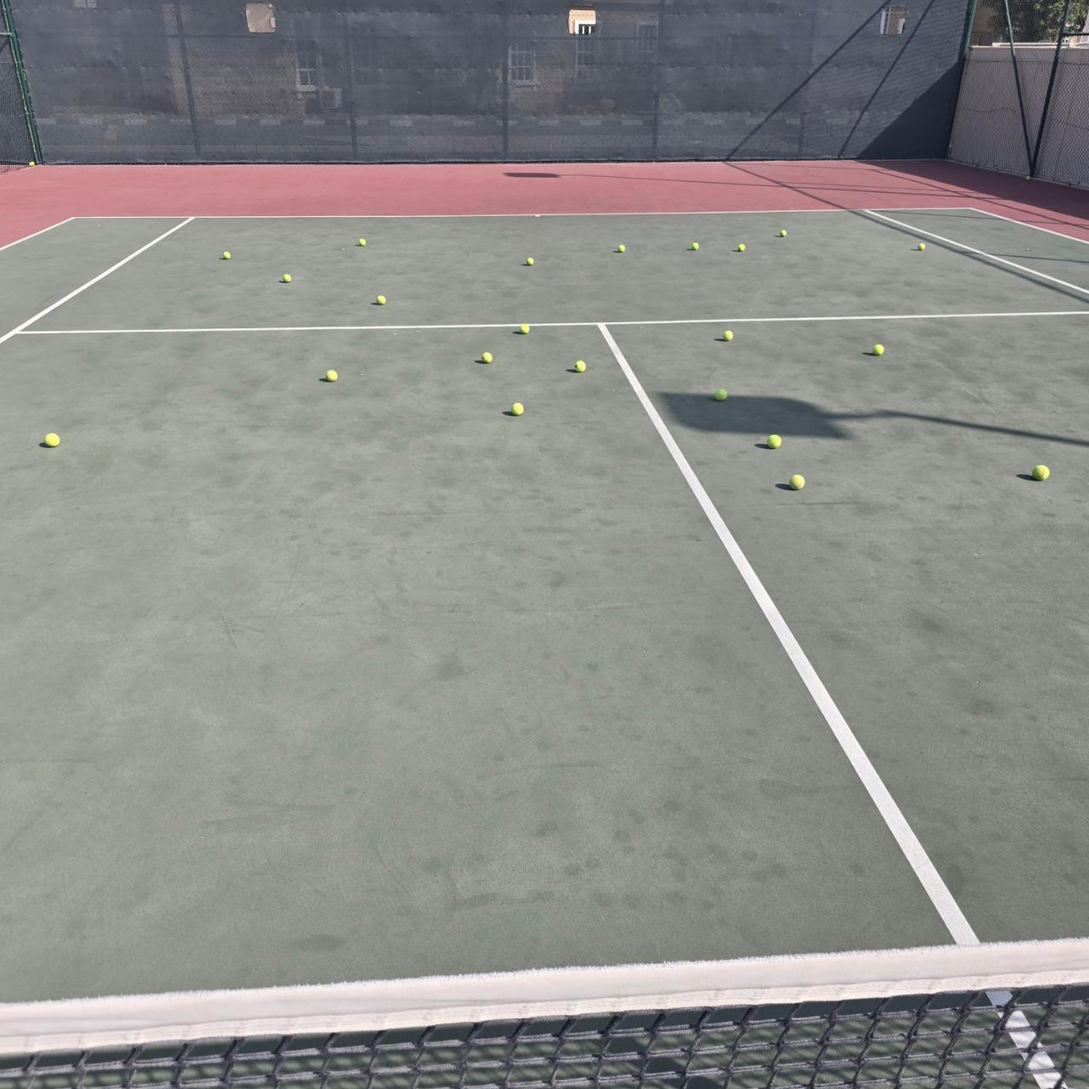tennis-ball: (1031, 462, 1050, 480), (41, 430, 60, 448), (788, 471, 805, 489), (767, 433, 782, 449), (871, 342, 885, 357), (573, 359, 586, 373), (512, 402, 524, 417), (325, 367, 338, 380), (481, 351, 493, 364), (715, 389, 727, 401), (722, 330, 733, 342), (520, 324, 530, 334), (282, 274, 292, 283), (526, 257, 535, 266), (377, 295, 385, 305), (691, 242, 699, 251), (737, 243, 745, 252), (617, 244, 625, 252), (917, 243, 925, 251), (223, 252, 231, 259), (780, 230, 787, 237), (359, 239, 367, 245), (1025, 176, 1031, 181), (29, 162, 34, 166)
